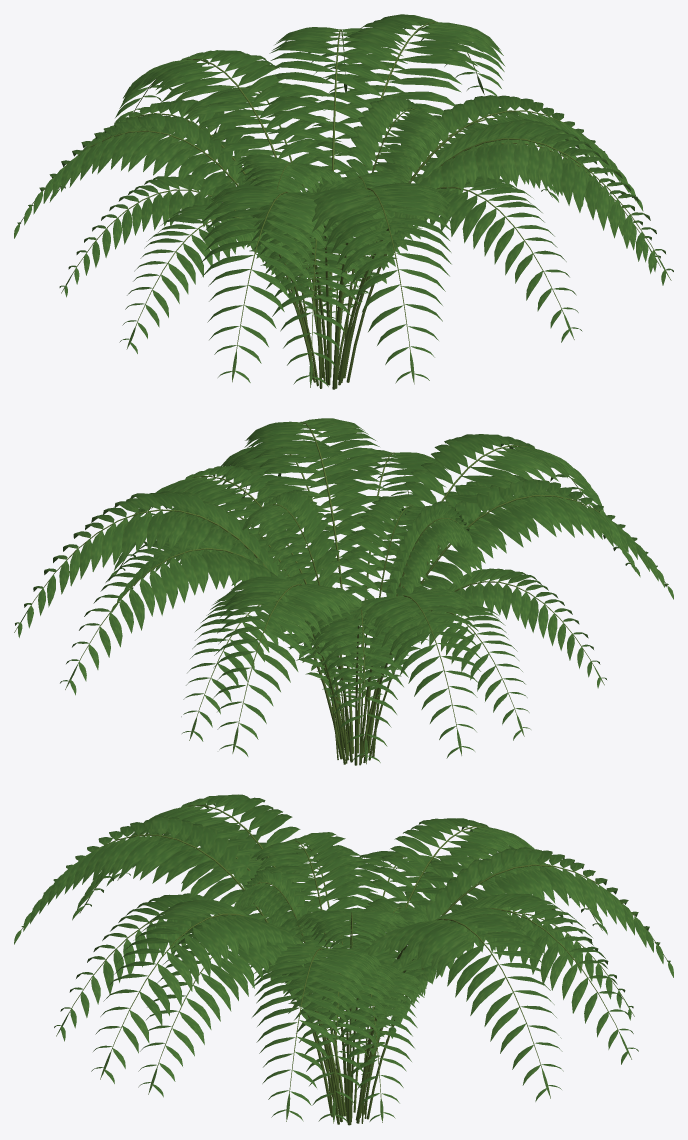
The model's file is m-fern.glb.
3 views of the same model, one above another, from view 1: azimuth 30°, elevation 25°; view 2: azimuth 150°, elevation 25°; view 3: azimuth 270°, elevation 25° (orthographic). The views are drawn at different scales.
Visible parts, largest first — view 1: Foliage, Stems; view 2: Foliage, Stems; view 3: Foliage, Stems.
Part boxes in pixels (x1,y1,x2,y2): Foliage: (14,14,673,386); Stems: (20,21,671,389); Foliage: (15,418,673,762); Stems: (14,421,667,765); Foliage: (14,794,673,1122); Stems: (21,805,667,1125).
Bounding box in the file's own units: 1.38 × 0.7 × 1.59.
Materials: 2 (1 with a texture image).
